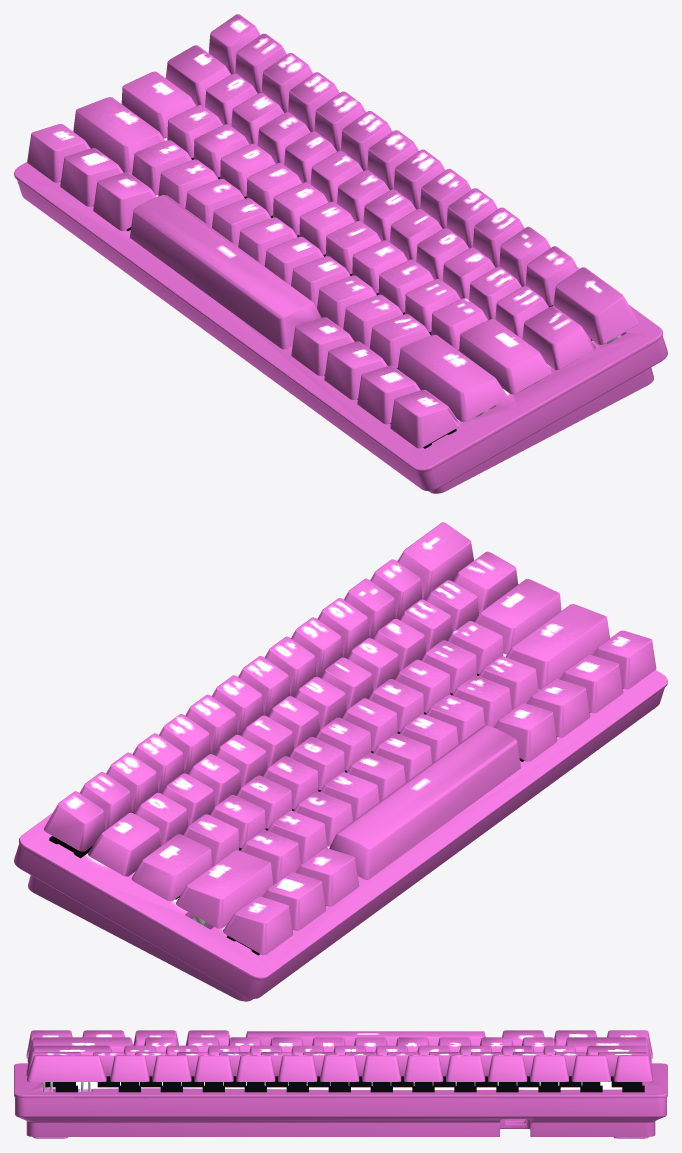
The model's file is Huntsman_Keyboard_Pink.glb.
3 renders of one model, top to bottom at view 1: azimuth 30°, elevation 25°; view 2: azimuth 150°, elevation 25°; view 3: azimuth 270°, elevation 25°, orthographic. The views are drawn at different scales.
Visible parts, largest first — view 1: Huntsman_Keyboard_Pink_LOD0; view 2: Huntsman_Keyboard_Pink_LOD0; view 3: Huntsman_Keyboard_Pink_LOD0.
Part boxes in pixels (x1,y1,x2,y2): Huntsman_Keyboard_Pink_LOD0: (14,14,667,493); Huntsman_Keyboard_Pink_LOD0: (14,522,667,1001); Huntsman_Keyboard_Pink_LOD0: (14,1030,667,1138).
Size of what is drawn, in the model's own units: 0.148 by 0.0844 by 0.4177.
3 materials, 1 textured.
